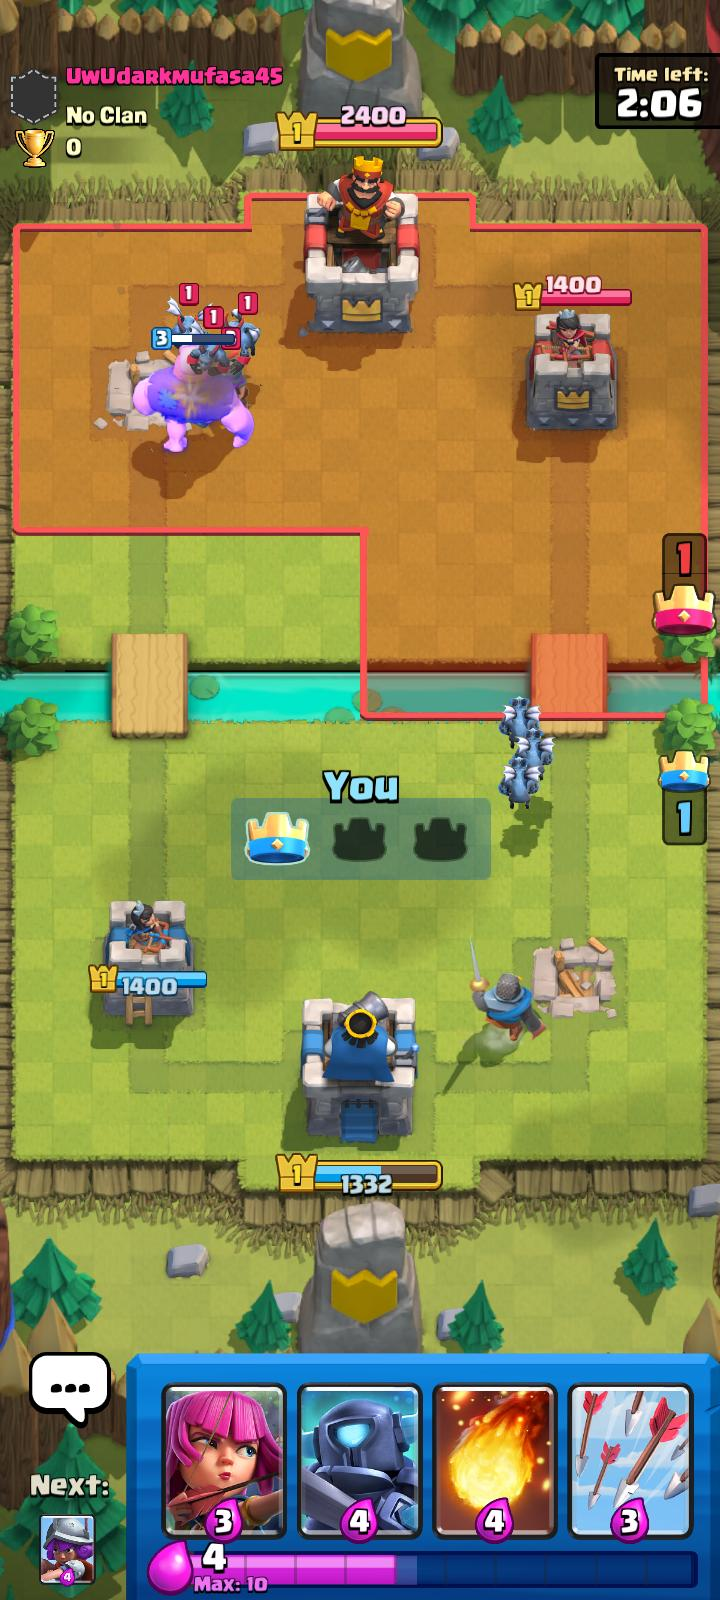gargouille: (497, 761, 542, 815), (499, 694, 543, 744), (230, 313, 265, 363), (521, 731, 557, 774)
geant: (140, 346, 262, 455)
